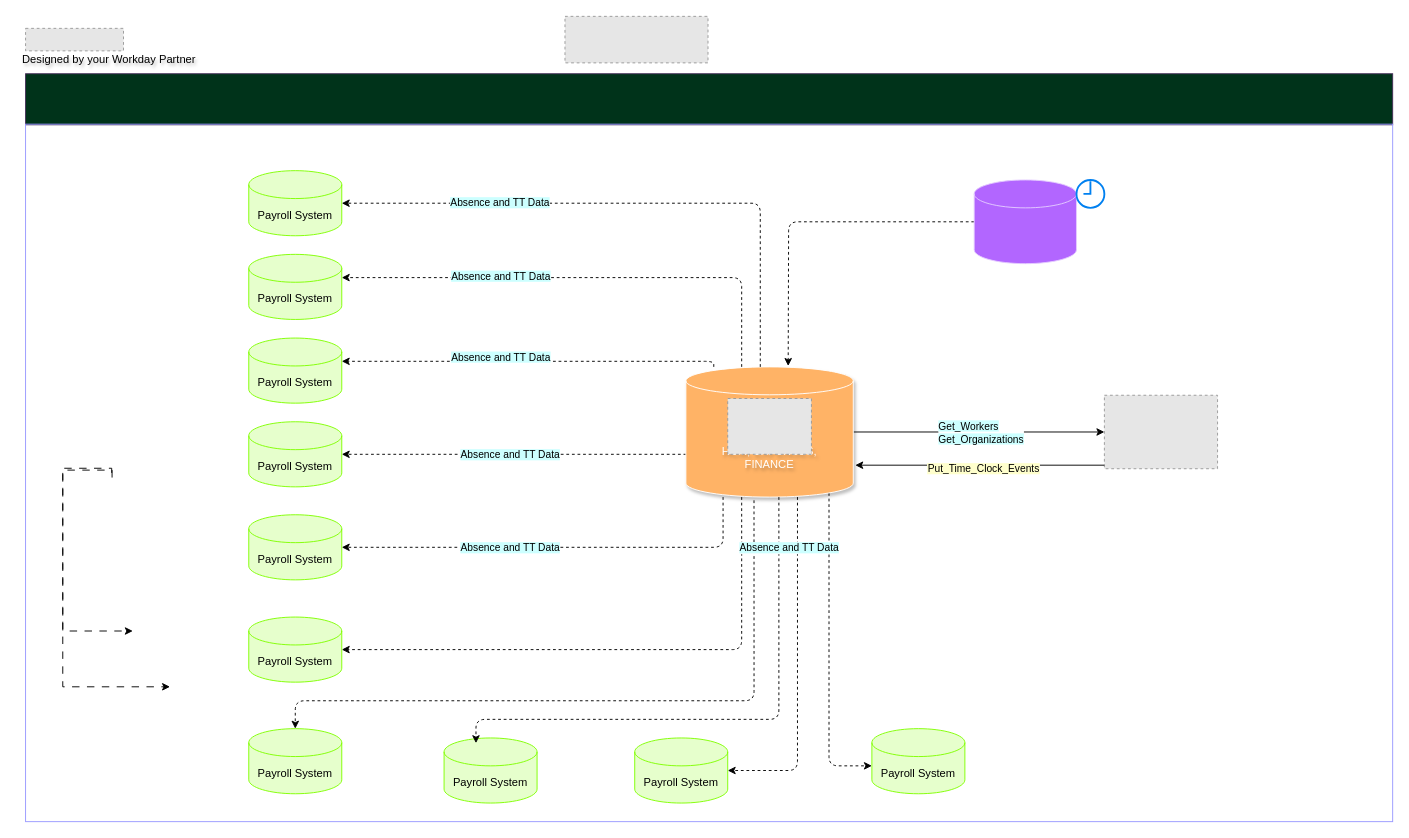
The diagram is 1409 pixels wide and 838 high, and some of its shapes have lost their labels. Grey dashed boxes stand in for pictures. The shapes that lost their labels are listed below. From the top down, each one's centre as x and y in pixels, then its label:
At point 709,99: "Proposed Solution Overview (Workday Perspective)".
At point 1024,221: "Local Clocking Machines".
